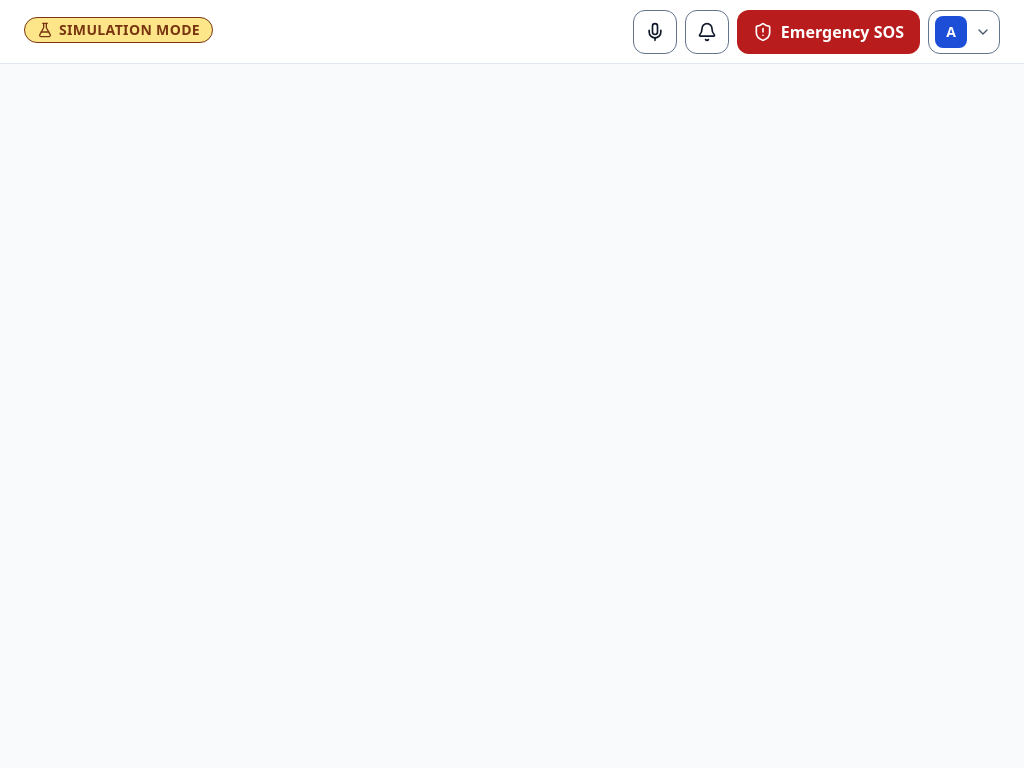
Test: Topbar › voice button opens the voice assistant panel with its controls
Click the button named "Voice assistant": (655, 32) [633,10,677,54]
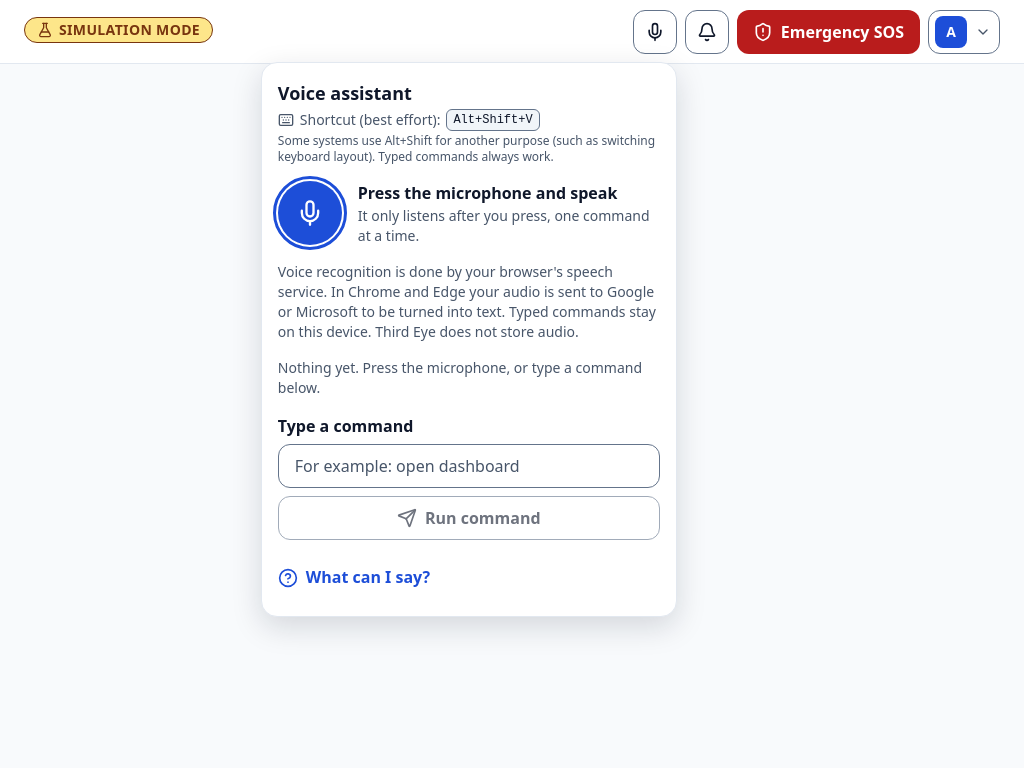
Expected: the button named "Start listening" is shown, [278,181,342,245]
Expected: the field labelled "Type a command" is shown, [278,444,660,488]
